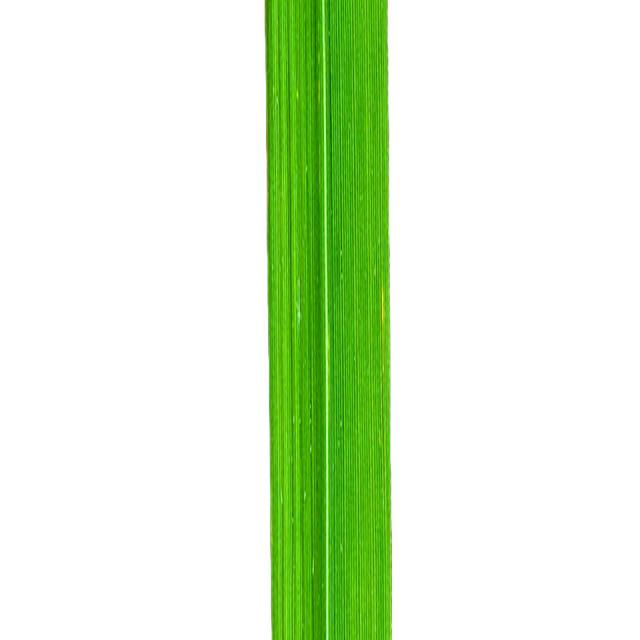NBS: (381, 280, 384, 327)
